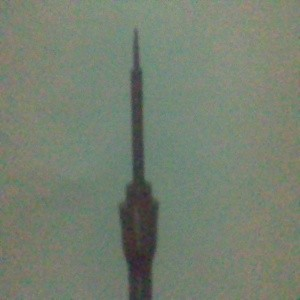solder: (117, 26, 160, 300)
